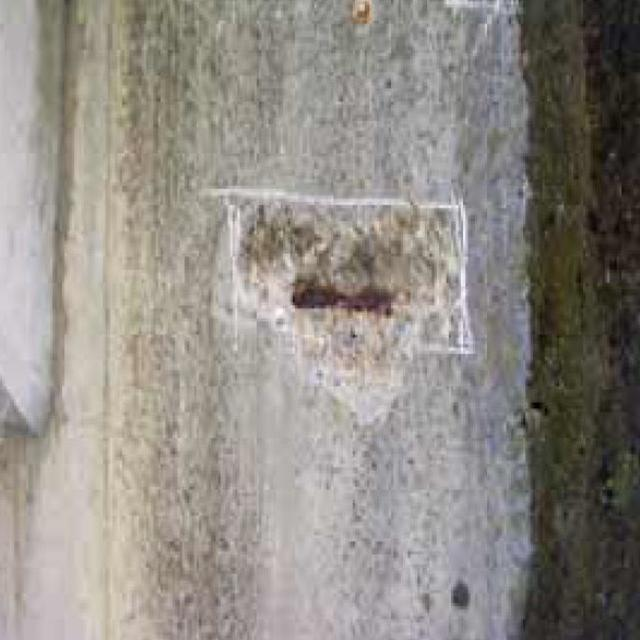spalling: (225, 204, 474, 397)
